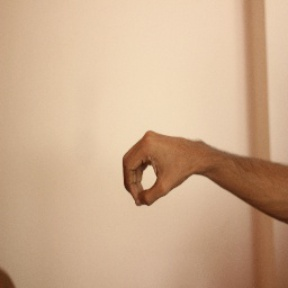O: (120, 128, 195, 209)
